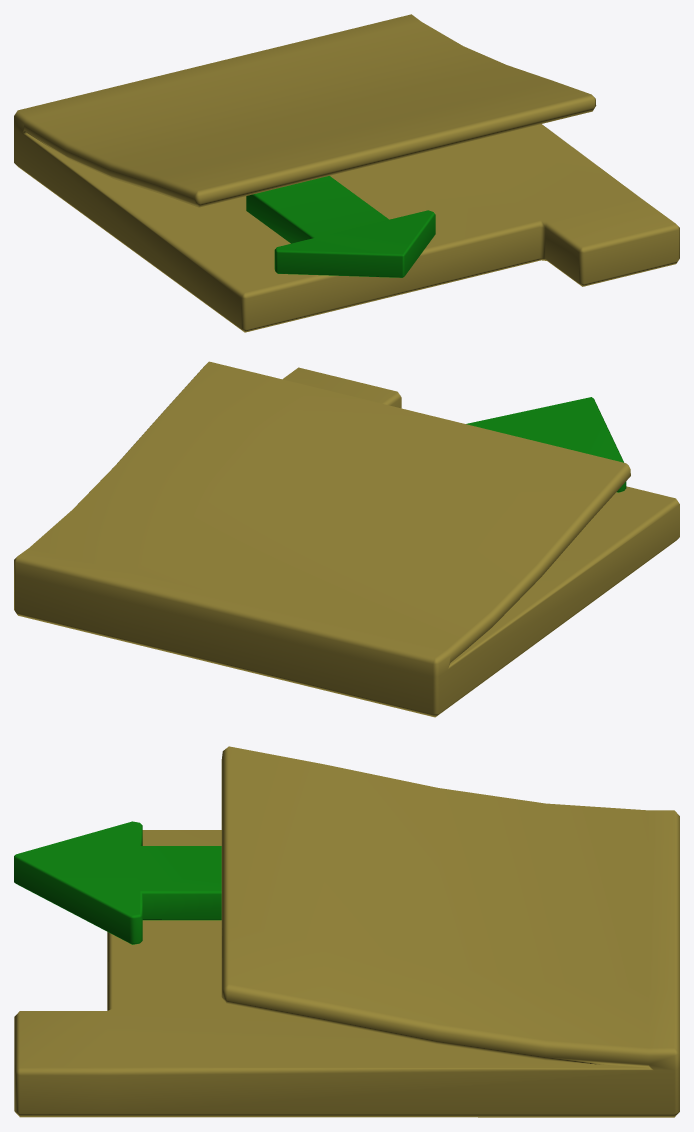
File: LoadButton.fbx
3 renders of one model, top to bottom at view 1: azimuth 30°, elevation 25°; view 2: azimuth 150°, elevation 25°; view 3: azimuth 270°, elevation 25°, orthographic. The views are drawn at different scales.
Visible parts, largest first — view 1: LoadGame; view 2: LoadGame; view 3: LoadGame.
Part boxes in pixels (<box>): LoadGame: <box>14,14,679,332</box>; LoadGame: <box>14,361,679,717</box>; LoadGame: <box>14,746,679,1117</box>.
Size of the model in its own units: 0.8534 by 0.2196 by 0.9917.
